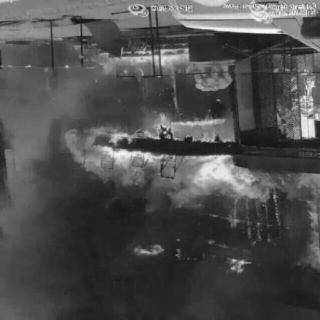Fire: (65, 39, 313, 279)
Smoke: (8, 188, 172, 316)
